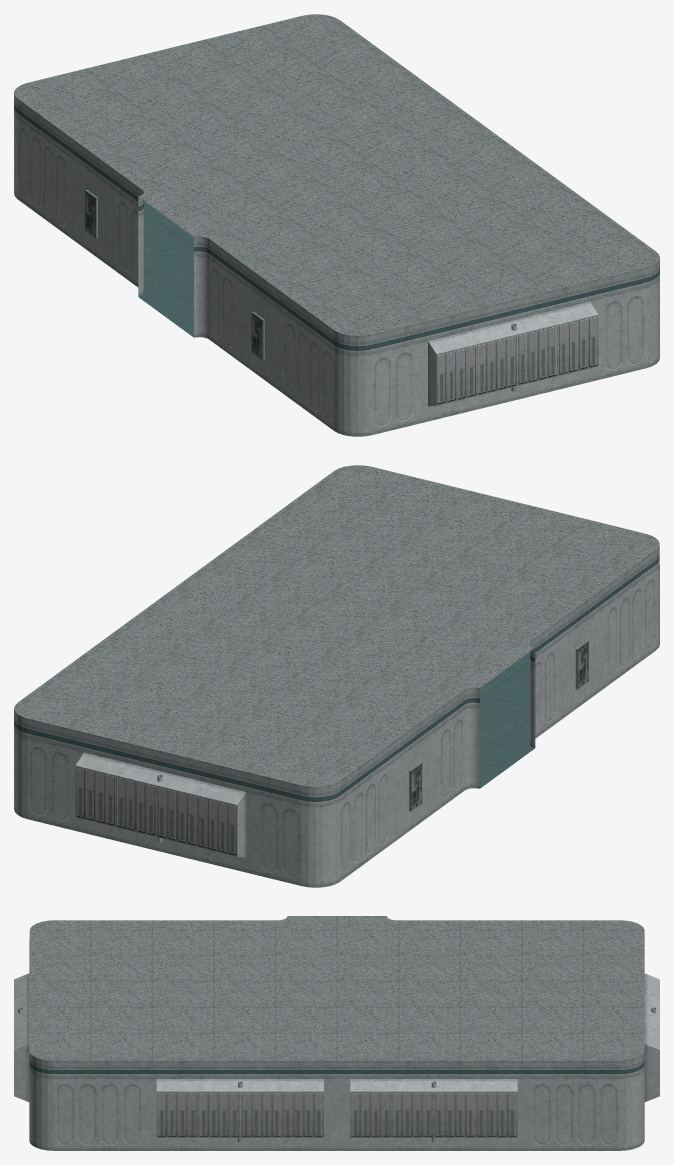
The model's file is mun_corl_hospital_s01_r10_blueroom_mesh_r10.fbx.
3 renders of one model, top to bottom at view 1: azimuth 30°, elevation 25°; view 2: azimuth 150°, elevation 25°; view 3: azimuth 270°, elevation 25°, orthographic. The views are drawn at different scales.
Visible parts, largest first — view 1: mesh_node; view 2: mesh_node; view 3: mesh_node.
Boxes of the visible parts, left/top/right/bottom form: mesh_node: left=14, top=14, right=659, bottom=436; mesh_node: left=14, top=465, right=659, bottom=887; mesh_node: left=14, top=916, right=659, bottom=1150.
Bounding box in the file's own units: 18.02 × 5 × 32.52.
